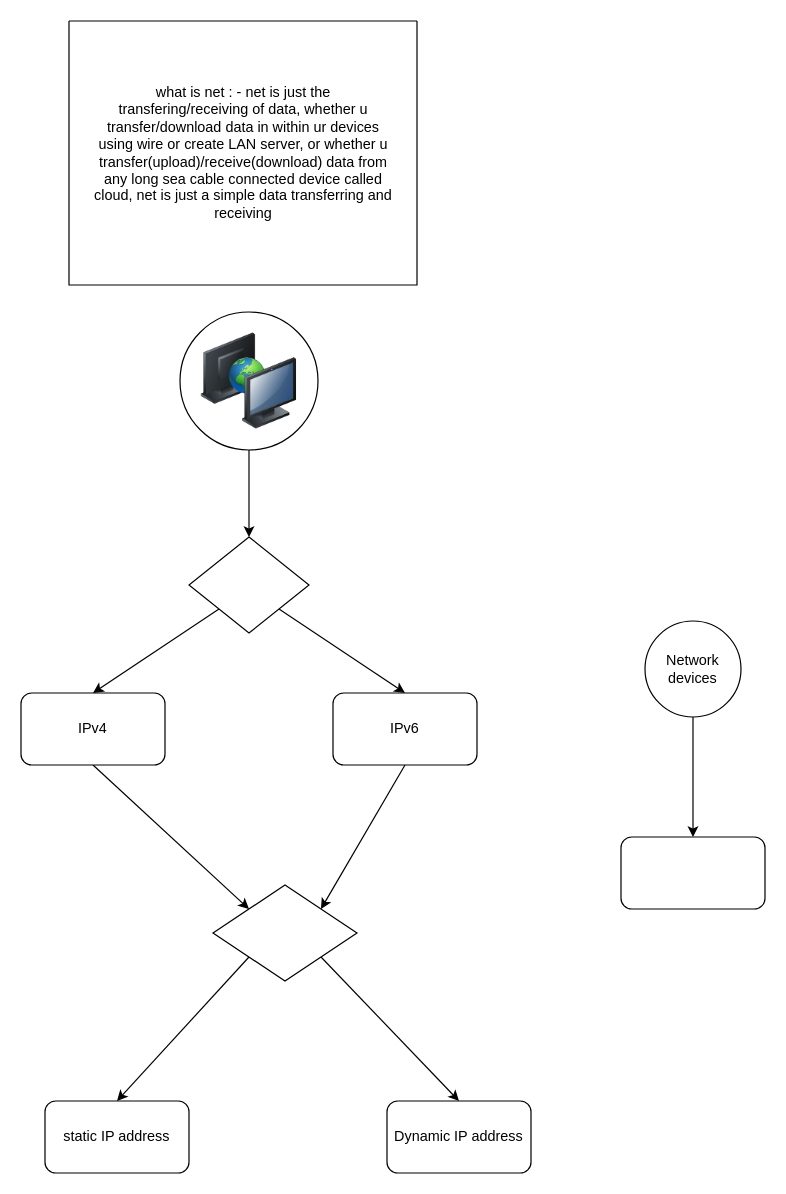
This 786x1194 diagram has some shape labels left out. Here are the shapes that lost their labels. From the top down, the box of each, then its label:
(188, 536, 309, 633): IP addresses
(620, 836, 765, 909): Every network devices have MAC address
(212, 884, 357, 981): IP addresses assigning
